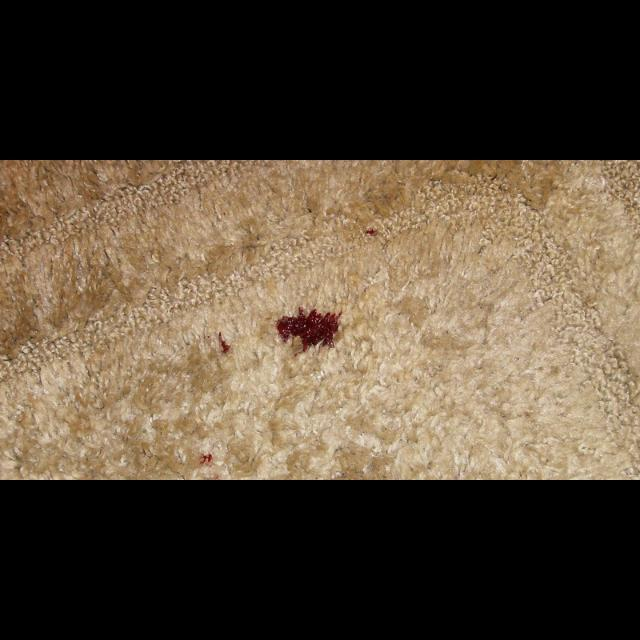blood: (276, 306, 342, 356), (218, 331, 231, 352), (199, 454, 212, 464), (365, 228, 376, 234)
